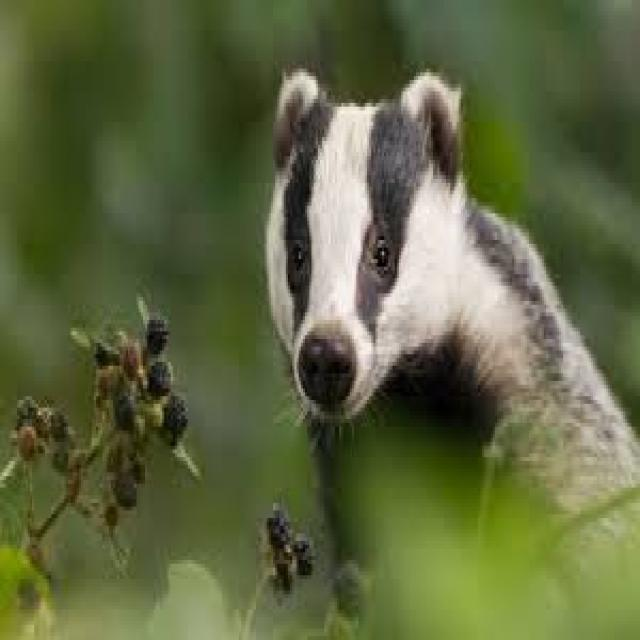Badger: (259, 48, 640, 620)
